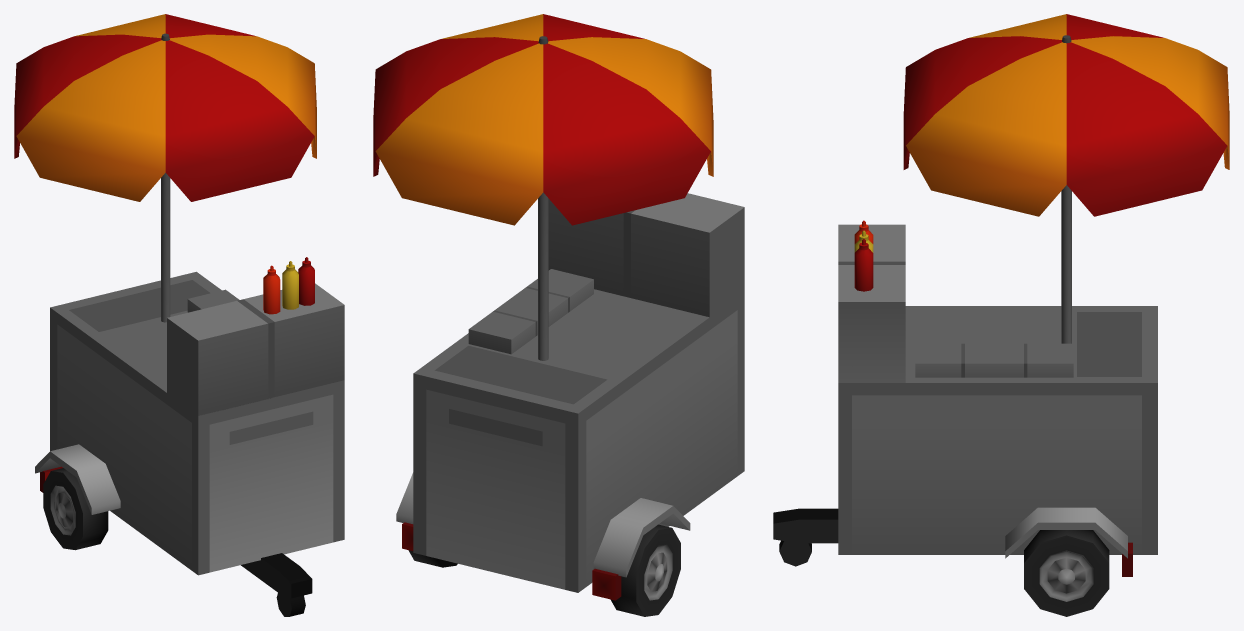
File: HotdogStand_Regular.fbx
3 renders of one model, left to right at view 1: azimuth 30°, elevation 25°; view 2: azimuth 150°, elevation 25°; view 3: azimuth 270°, elevation 25°, orthographic. The views are drawn at different scales.
Visible parts, largest first — view 1: HotdogStand_Regular; view 2: HotdogStand_Regular; view 3: HotdogStand_Regular.
Part boxes in pixels (left/top/right/bottom): HotdogStand_Regular: left=14, top=14, right=344, bottom=616; HotdogStand_Regular: left=373, top=14, right=744, bottom=616; HotdogStand_Regular: left=773, top=14, right=1229, bottom=616.
Bounding box in the file's own units: 203 × 318 × 250.
